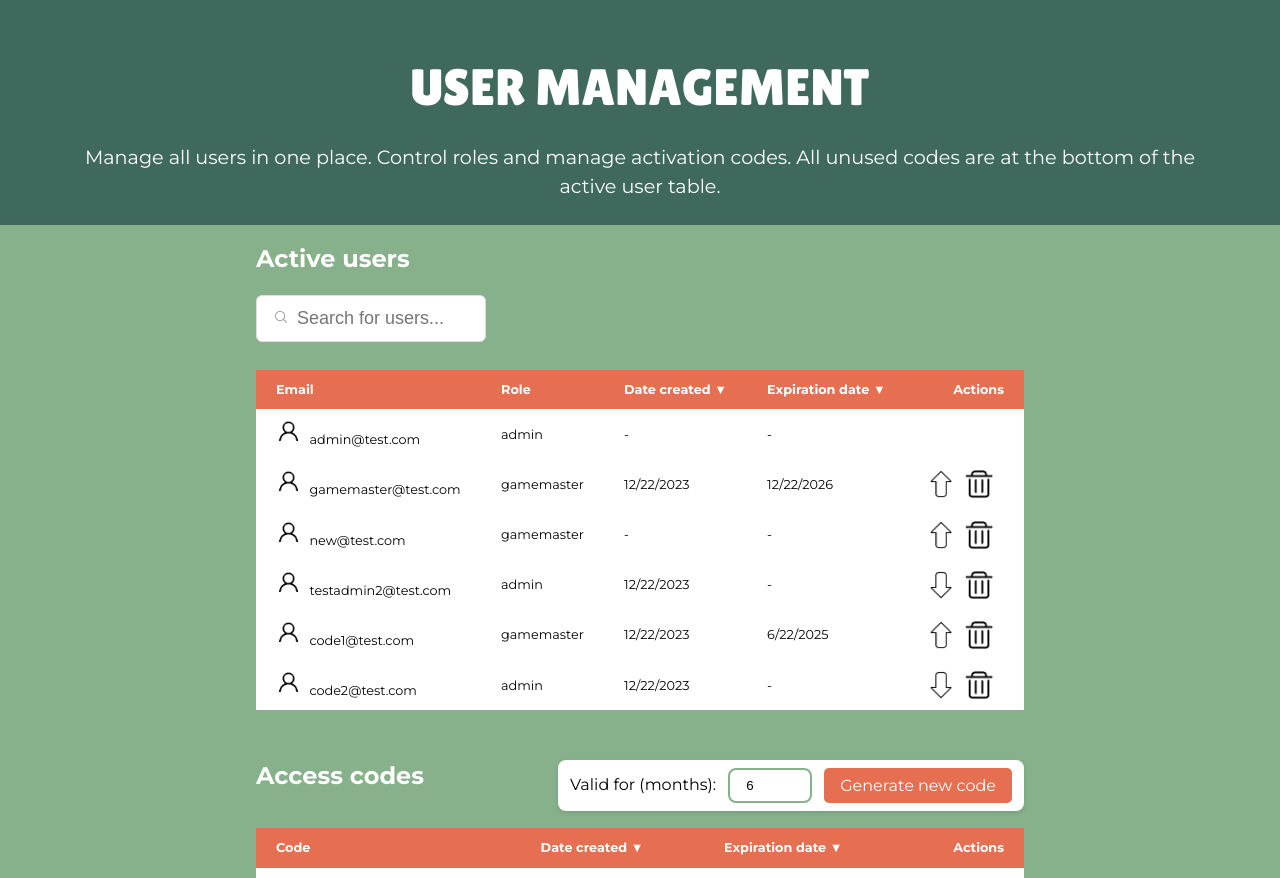
Test: EditUsers › demote user
Click the picture titled "Demote" in the row of "testadmin2@test.com": {"x": 941, "y": 585} [926,570,956,600]
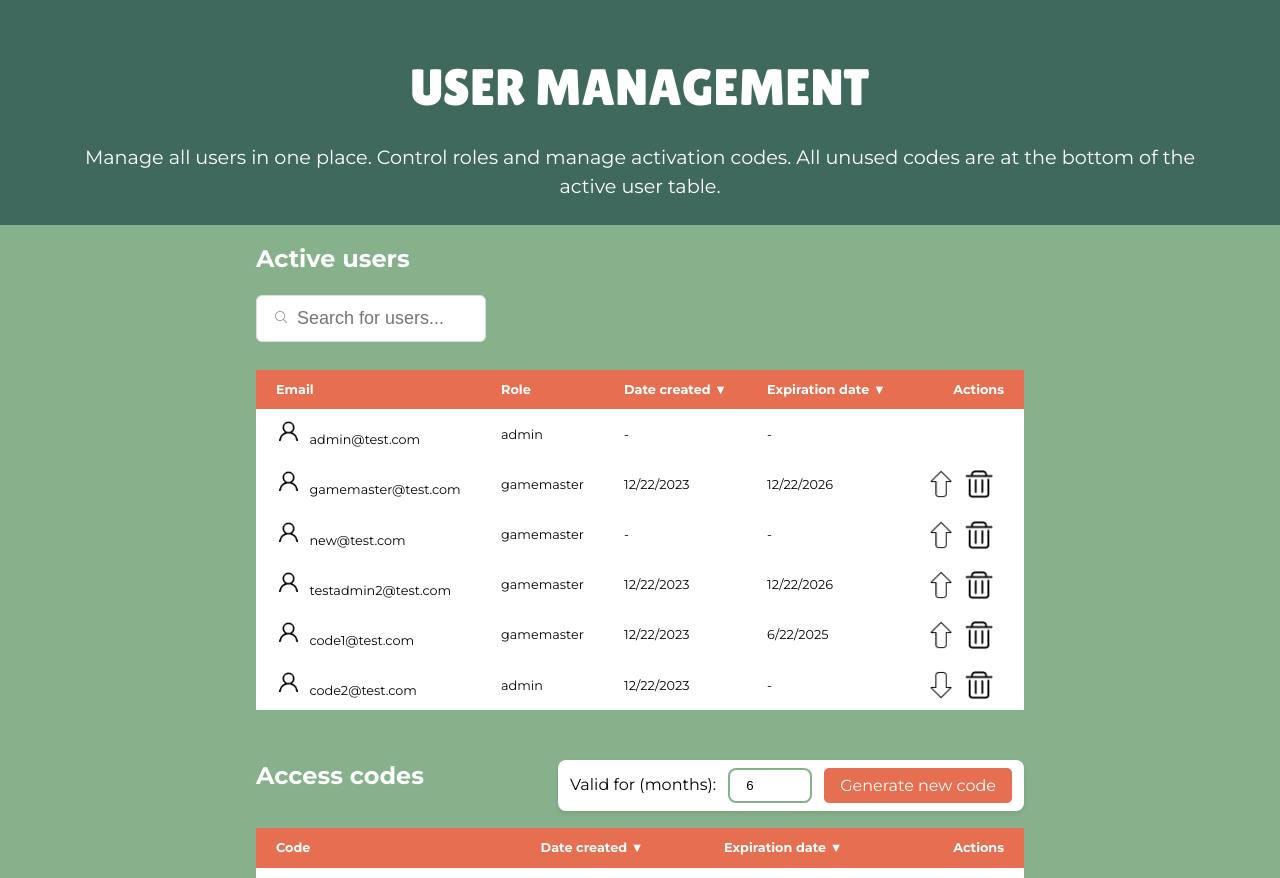
Expected: the text "gamemaster" next to "testadmin2@test.com" is shown, [501,577,584,592]
